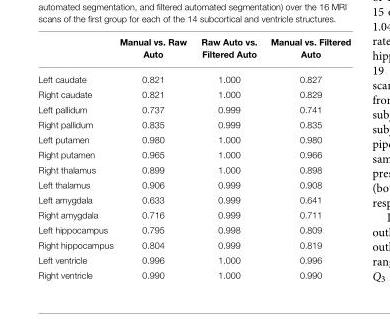table: (37, 37, 350, 279)
table column: (263, 37, 350, 279), (37, 37, 115, 279), (115, 37, 193, 279), (193, 37, 263, 279)
table column header: (37, 37, 350, 66)
table row: (37, 37, 350, 66), (37, 66, 350, 87), (37, 87, 350, 102), (37, 102, 350, 117), (37, 117, 350, 132), (37, 132, 350, 147), (37, 147, 350, 162), (37, 162, 350, 177), (37, 177, 350, 192), (37, 192, 350, 207), (37, 207, 350, 222), (37, 222, 350, 237), (37, 237, 350, 252), (37, 252, 350, 267), (37, 267, 350, 279)
